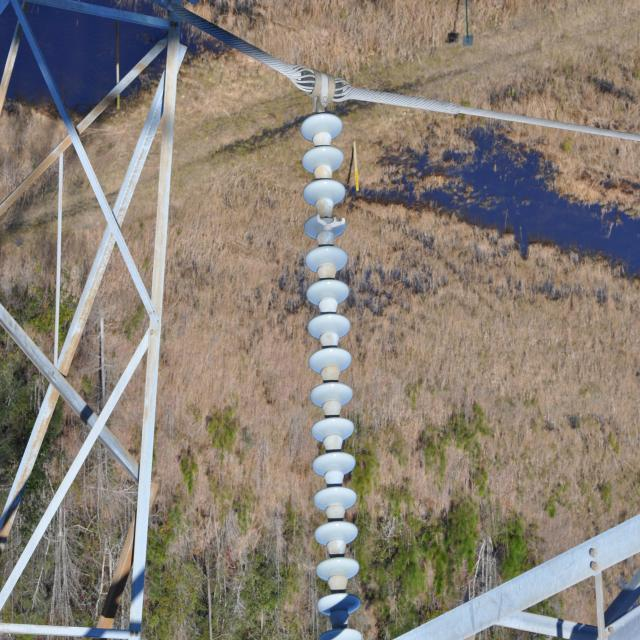broken: (314, 209, 346, 232)
insulator: (299, 113, 367, 640)
